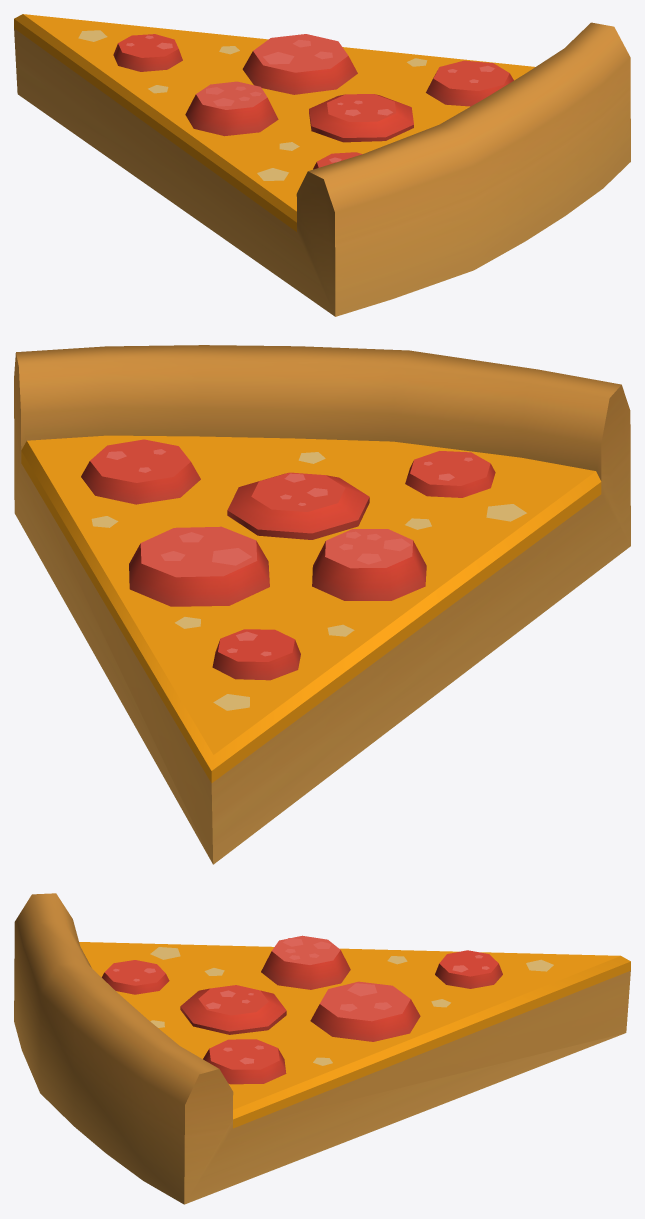
The model's file is PizzaSlice_B.glb.
The picture shows the model from 3 angles, top to bottom: view 1: azimuth 30°, elevation 25°; view 2: azimuth 150°, elevation 25°; view 3: azimuth 270°, elevation 25°; orthographic projection. The views are drawn at different scales.
Visible parts, largest first — view 1: PizzaSlice_B; view 2: PizzaSlice_B; view 3: PizzaSlice_B.
Part boxes in pixels (x1=…): PizzaSlice_B: x1=14, y1=14, x2=630, y2=316; PizzaSlice_B: x1=14, y1=345, x2=630, y2=864; PizzaSlice_B: x1=14, y1=893, x2=630, y2=1204.
Size of the model in its own units: 0.1848 by 0.0642 by 0.2624.
Materials: 1 (1 with a texture image).
